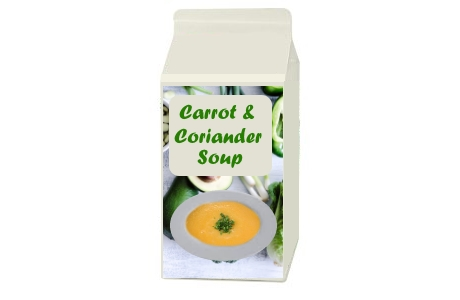Rec_Paper: (142, 2, 321, 280)
